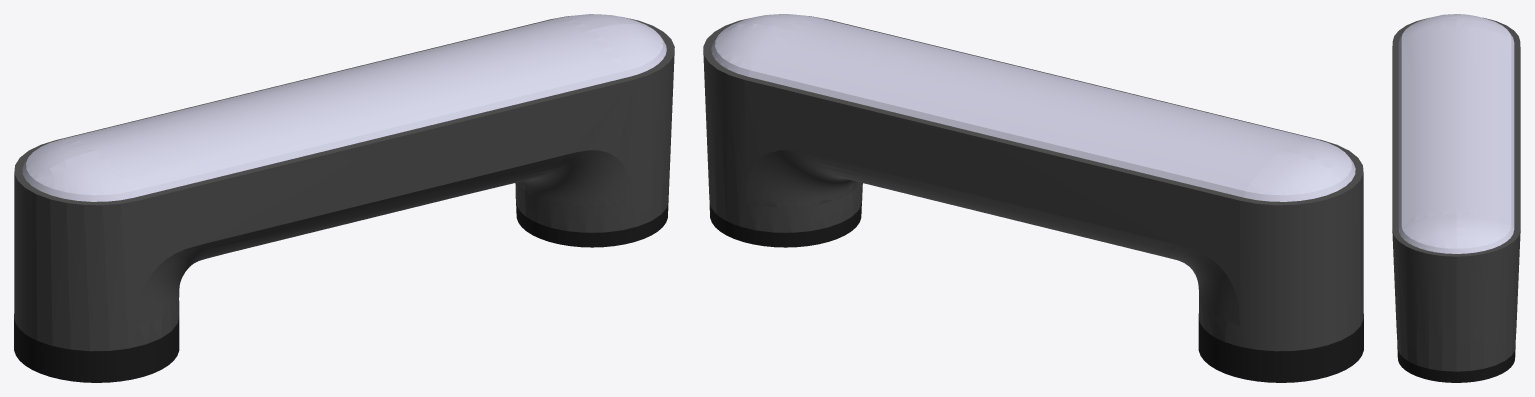
3 renders of one model, left to right at view 1: azimuth 30°, elevation 25°; view 2: azimuth 150°, elevation 25°; view 3: azimuth 270°, elevation 25°, orthographic. The views are drawn at different scales.
Parts seen in each view (by area): view 1: mesh; view 2: mesh; view 3: mesh.
Boxes of the visible parts, x1=… form: mesh: x1=14, y1=14, x2=674, y2=382; mesh: x1=703, y1=14, x2=1363, y2=382; mesh: x1=1392, y1=14, x2=1520, y2=382.
Size of the model in its own units: 0.3662 by 0.0822 by 0.1083.
